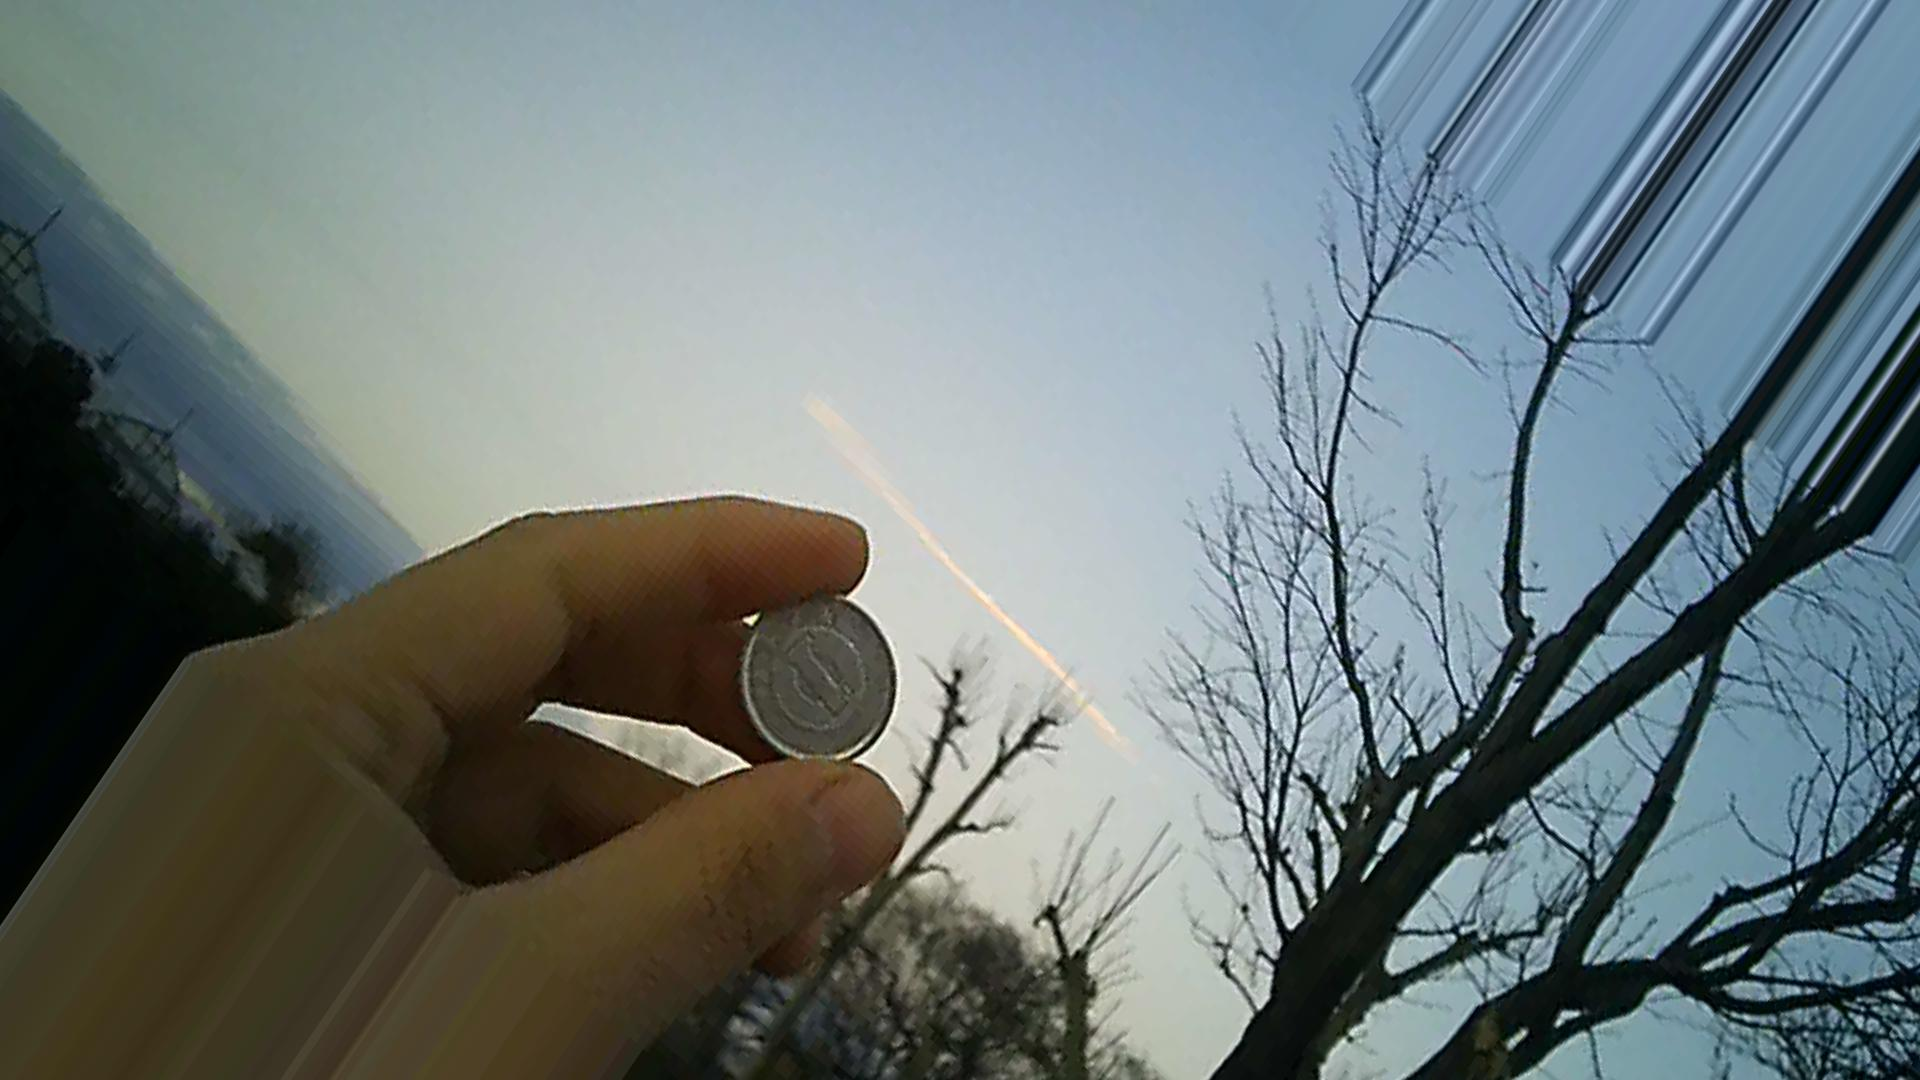1 Yen: (742, 585, 906, 766)
